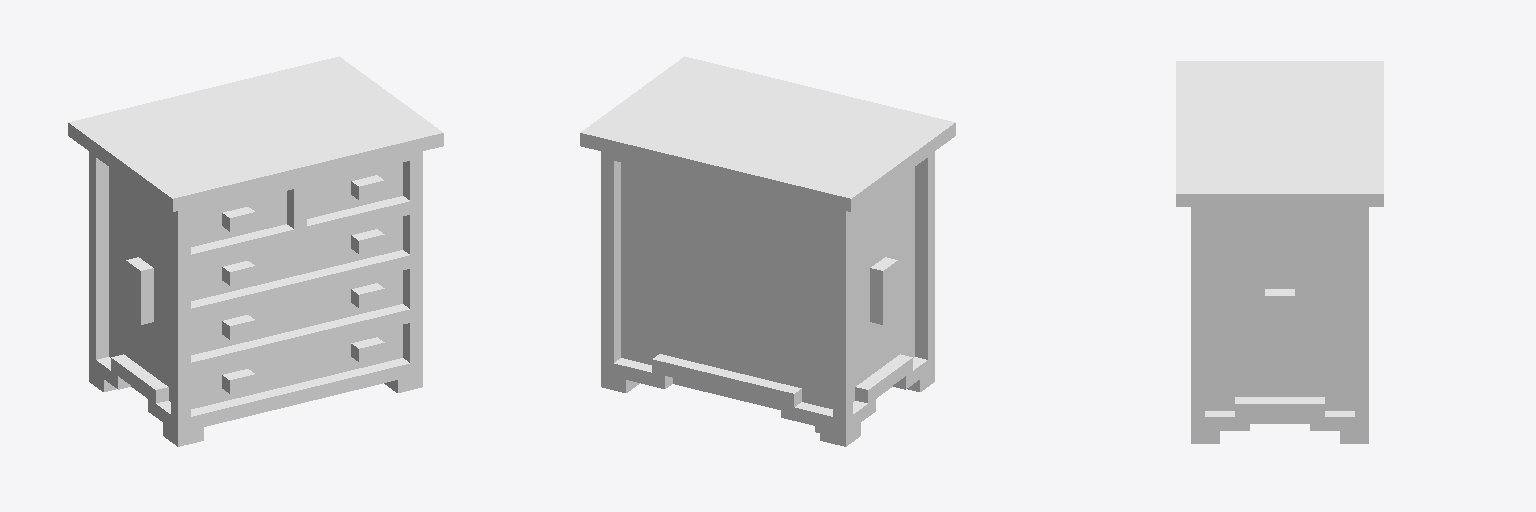
The model's file is prop_drawer_light_brown.obj.
3 views of the same model, side by side, from view 1: azimuth 30°, elevation 25°; view 2: azimuth 150°, elevation 25°; view 3: azimuth 270°, elevation 25° (orthographic).
Visible parts, largest first — view 1: object 1; view 2: object 1; view 3: object 1.
Boxes of the visible parts, box(x1,y1,x2,y2) form: object 1: box(68, 56, 443, 446); object 1: box(580, 56, 955, 446); object 1: box(1176, 61, 1383, 443).
Bounding box in the file's own units: 2.1 × 1.9 × 1.4.